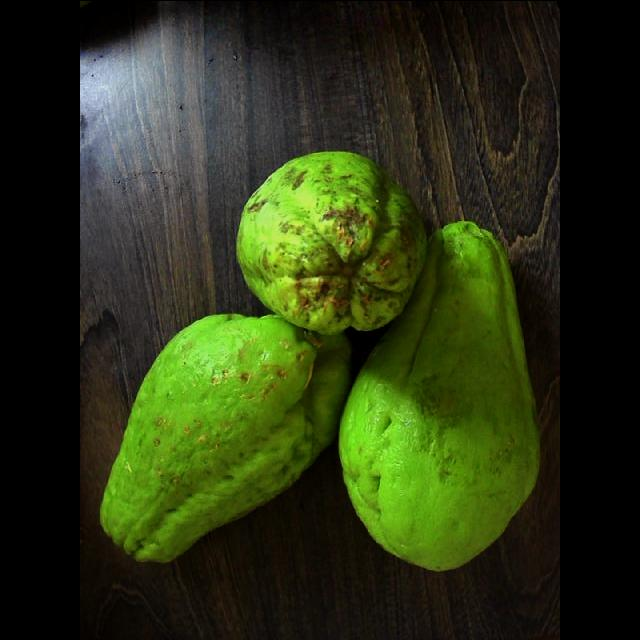chayote: (339, 221, 539, 570), (100, 313, 351, 561), (236, 151, 426, 333)
